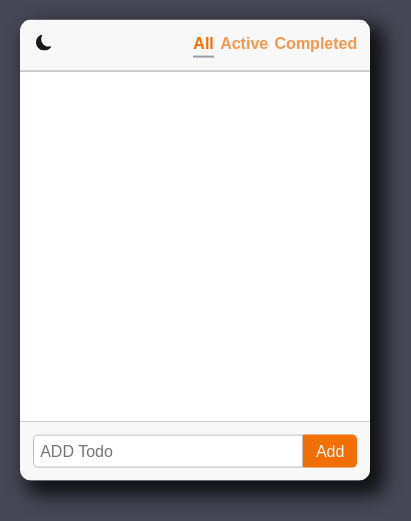
Test case: to-do list App › switchs to dark mode
This screenshot has width=411, height=521.
Click the button titled "Switch to dark mode button": point(44, 45) 30,32 -> 58,57
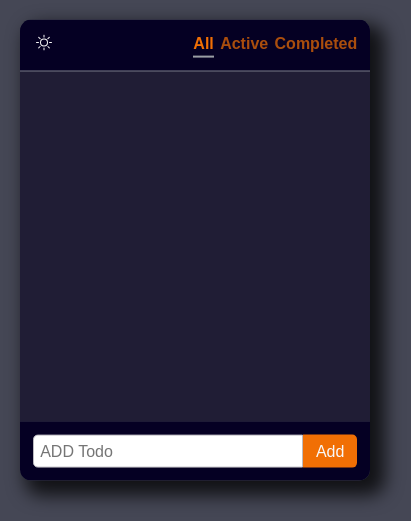
Result: the button titled "Switch to light mode button" is shown at 30,32 -> 58,57
